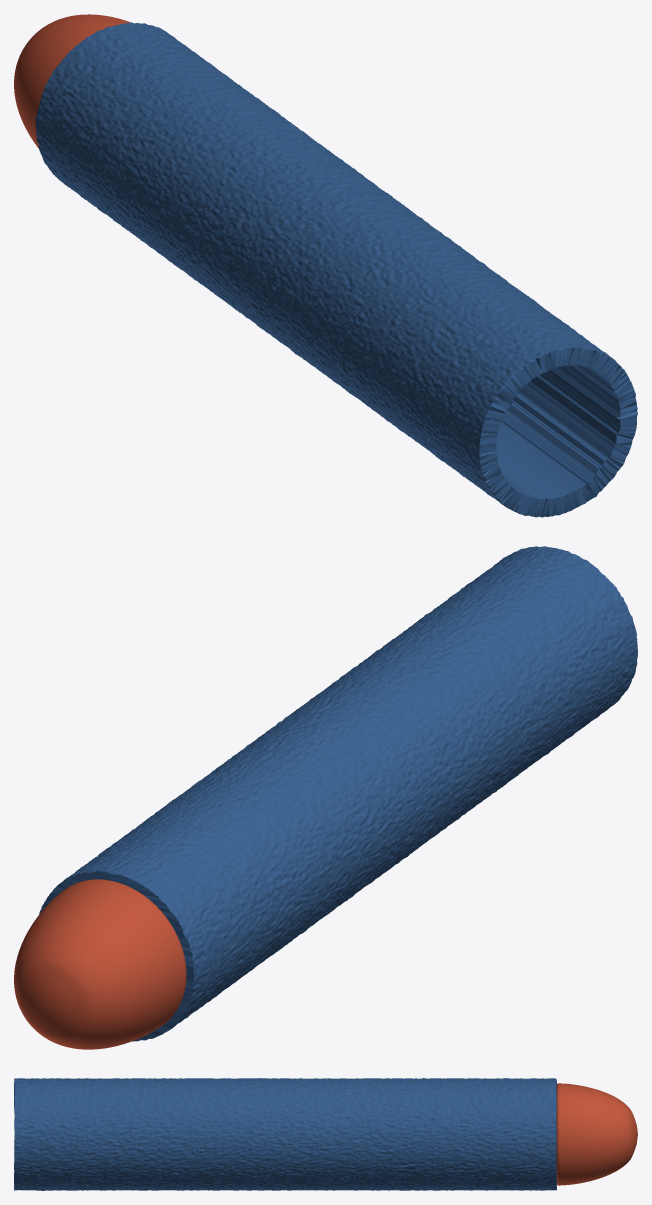
File: nerf_dartbullet.glb
3 views of the same model, one above another, from view 1: azimuth 30°, elevation 25°; view 2: azimuth 150°, elevation 25°; view 3: azimuth 270°, elevation 25° (orthographic). The views are drawn at different scales.
Visible parts, largest first — view 1: Cylinder_2, Cylinder.001_1; view 2: Cylinder_2, Cylinder.001_1; view 3: Cylinder_2, Cylinder.001_1.
Part boxes in pixels (x1,y1,x2,y2): Cylinder_2: (35,22,637,517); Cylinder.001_1: (14,14,130,148); Cylinder_2: (39,546,637,1041); Cylinder.001_1: (14,879,186,1049); Cylinder_2: (14,1078,556,1190); Cylinder.001_1: (556,1083,637,1185).
Size of the model in its own units: 0.0129 by 0.0129 by 0.0715.
